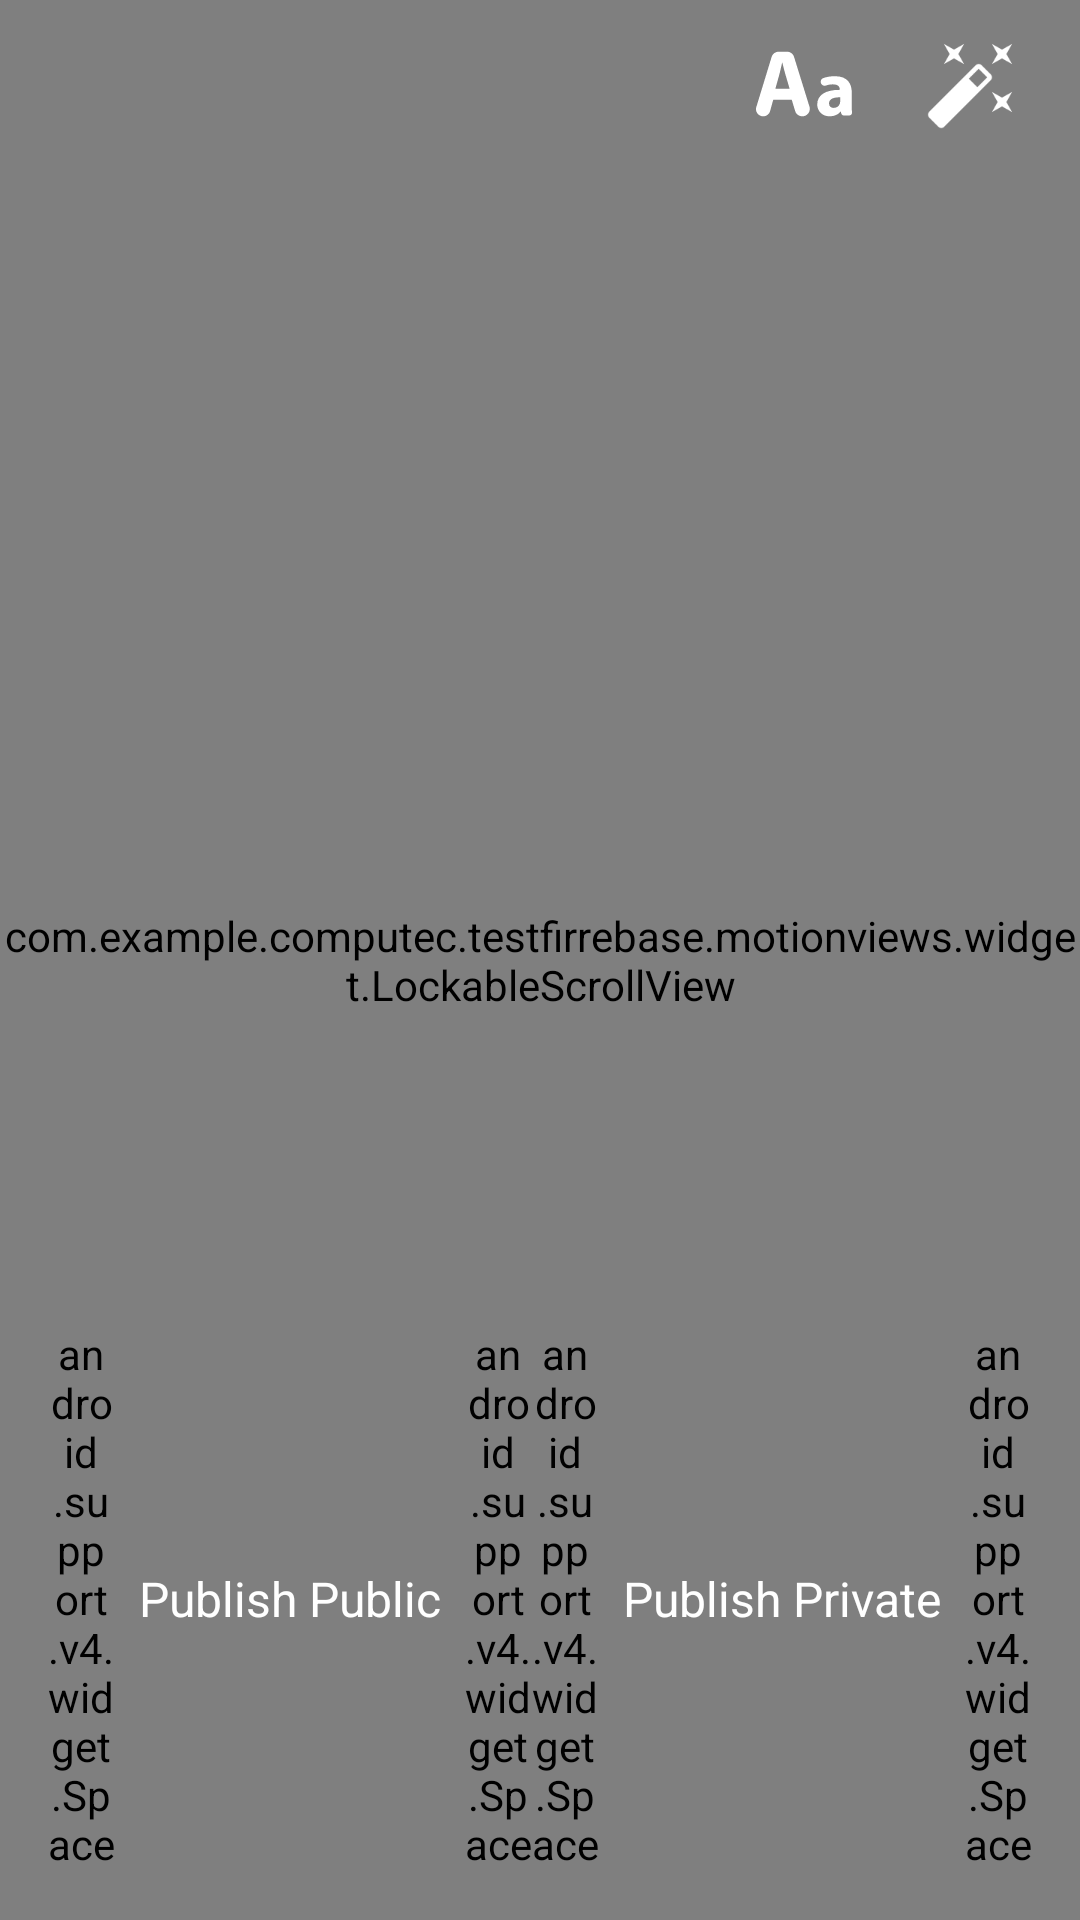

Point at icon controls on the screen. Image size 1080 x 1920, points as (x,y).
edit: (970,86)
text fields: (804,84)
